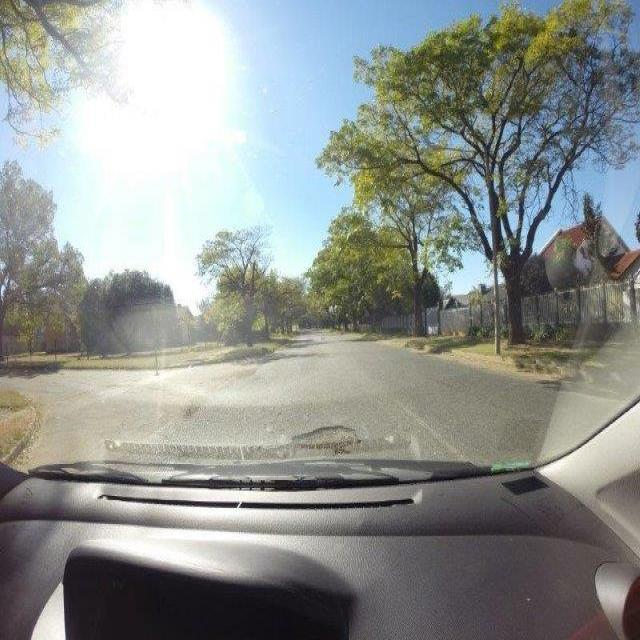lubang: (288, 414, 370, 462)
